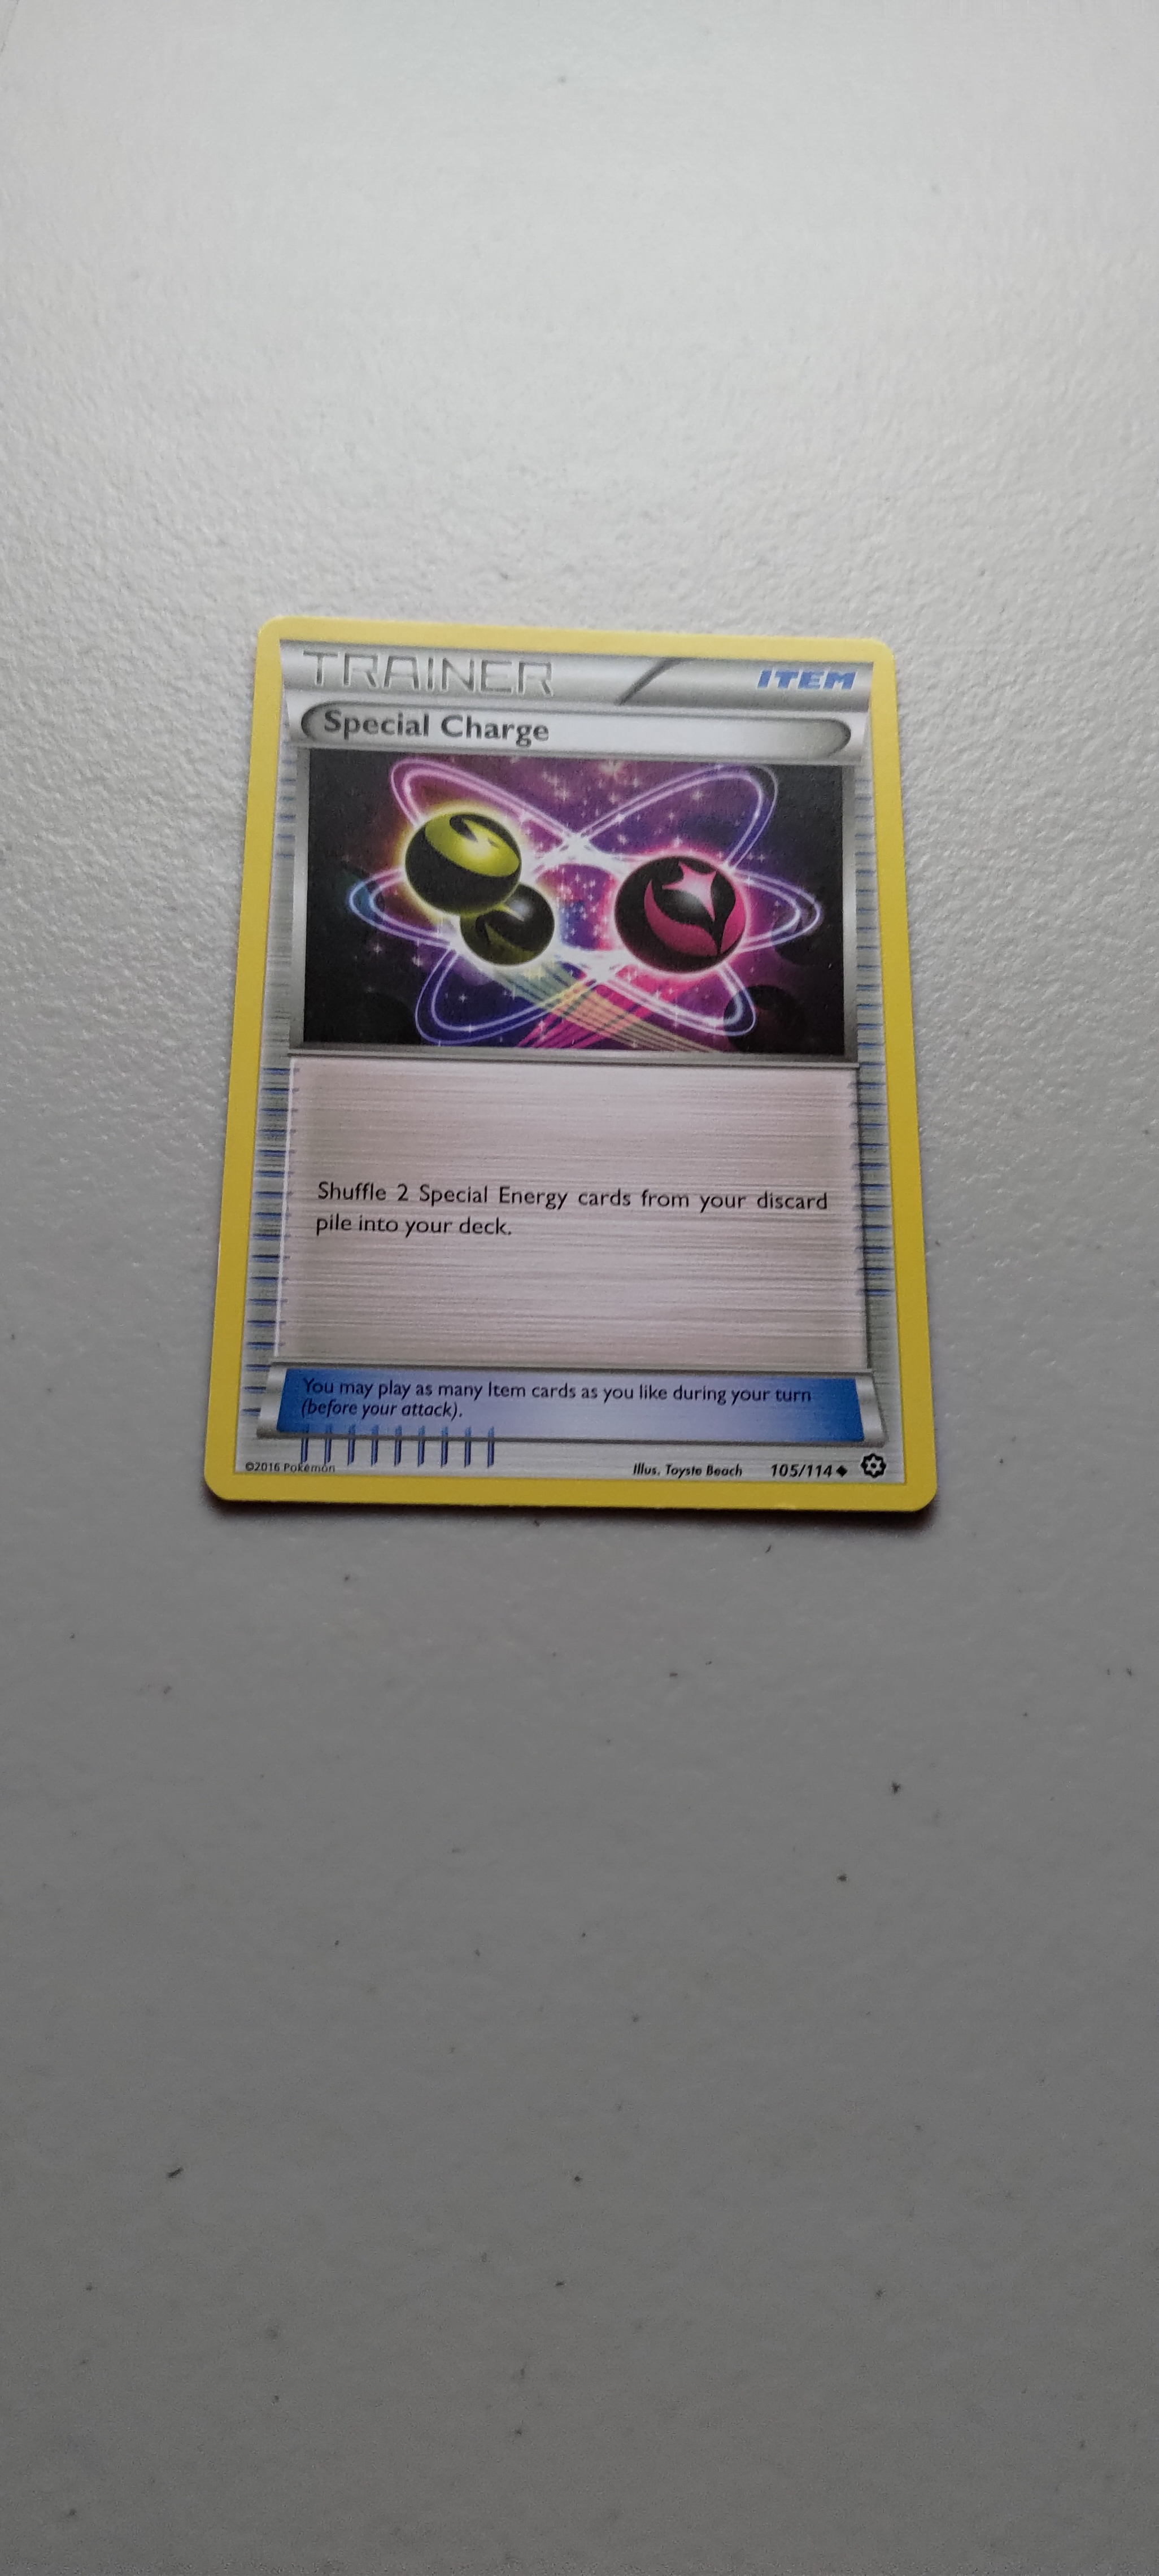pokemon_card: (222, 603, 969, 1549)
